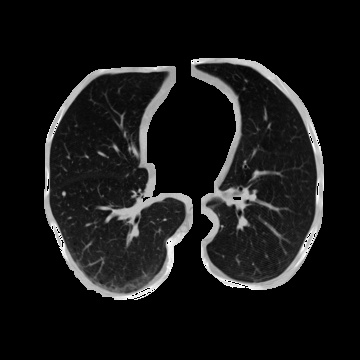PN: (61, 191, 65, 195)
